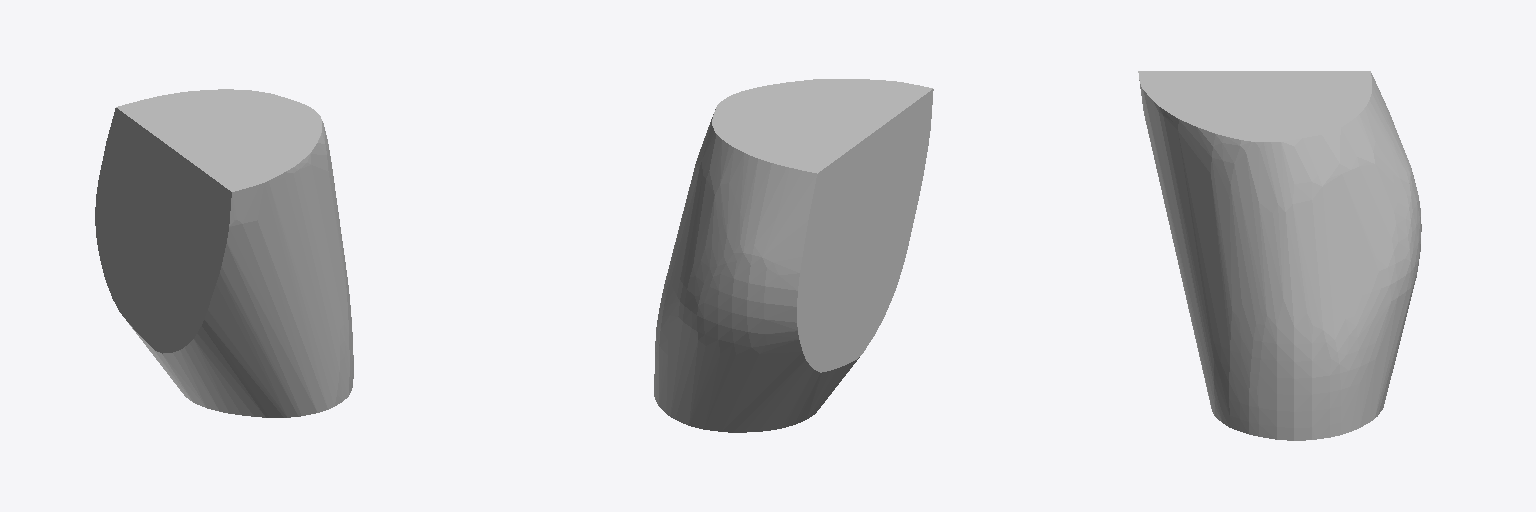
The model's file is woman_collision_12.obj.
3 renders of one model, left to right at view 1: azimuth 30°, elevation 25°; view 2: azimuth 150°, elevation 25°; view 3: azimuth 270°, elevation 25°, orthographic.
Size of the model in its own units: 22.51 by 31.46 by 29.11.